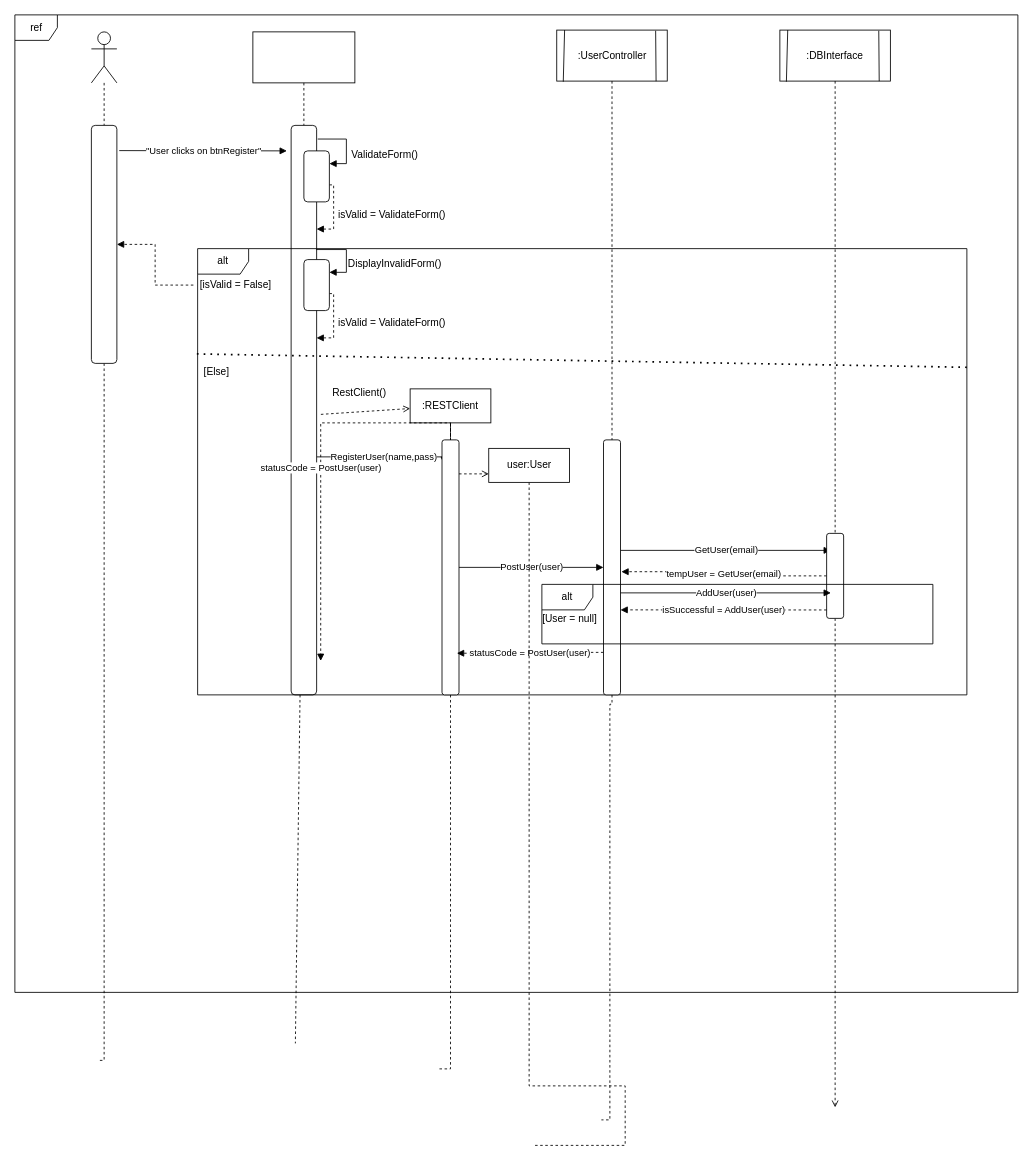
This 1033x1161 diagram has some shape labels left out. Each missing label, with the centre of its shape:
":Register Page" belongs at point (303, 57).
"User" belongs at point (104, 57).
